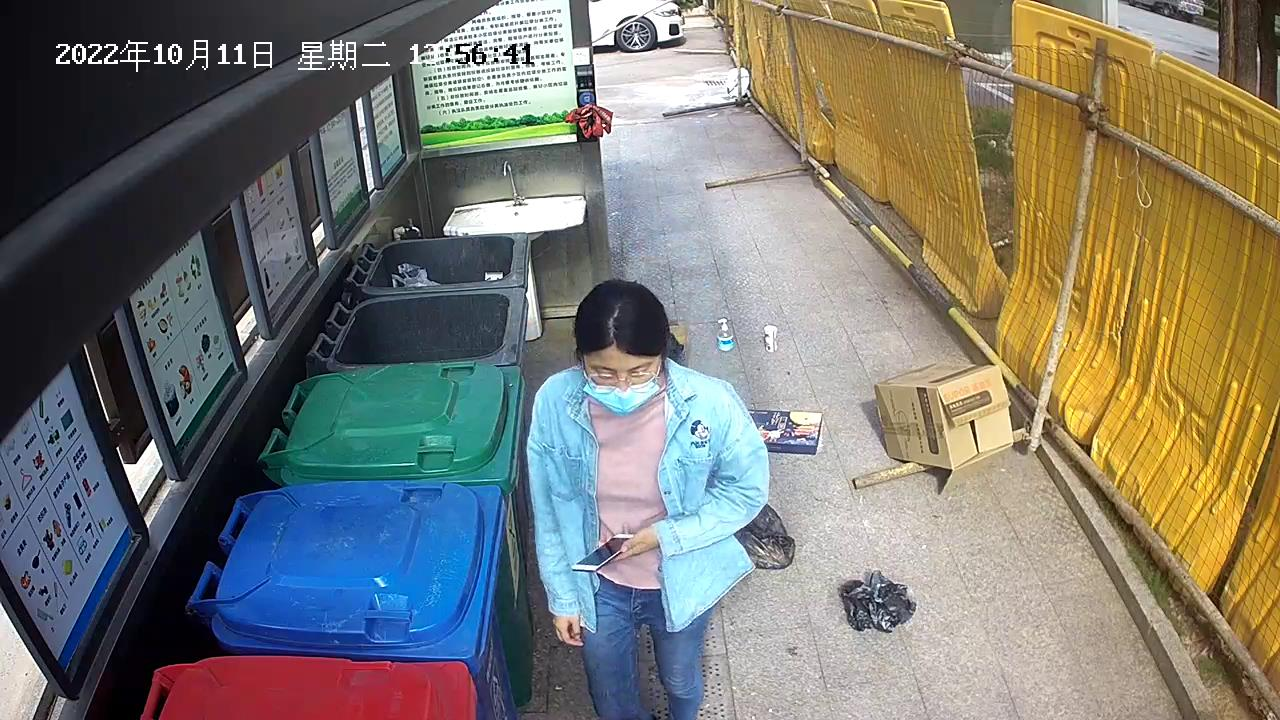garbage-bag: (833, 564, 925, 640), (732, 499, 798, 576)
lvzhipin: (761, 322, 782, 357)
suliaozhipin: (712, 312, 738, 357)
worker: (520, 274, 780, 720)
zhizhipin: (869, 357, 1020, 500), (739, 401, 830, 459)
